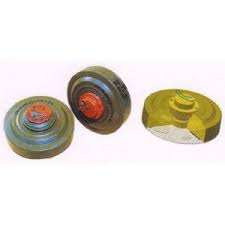car: (0, 81, 79, 176)
